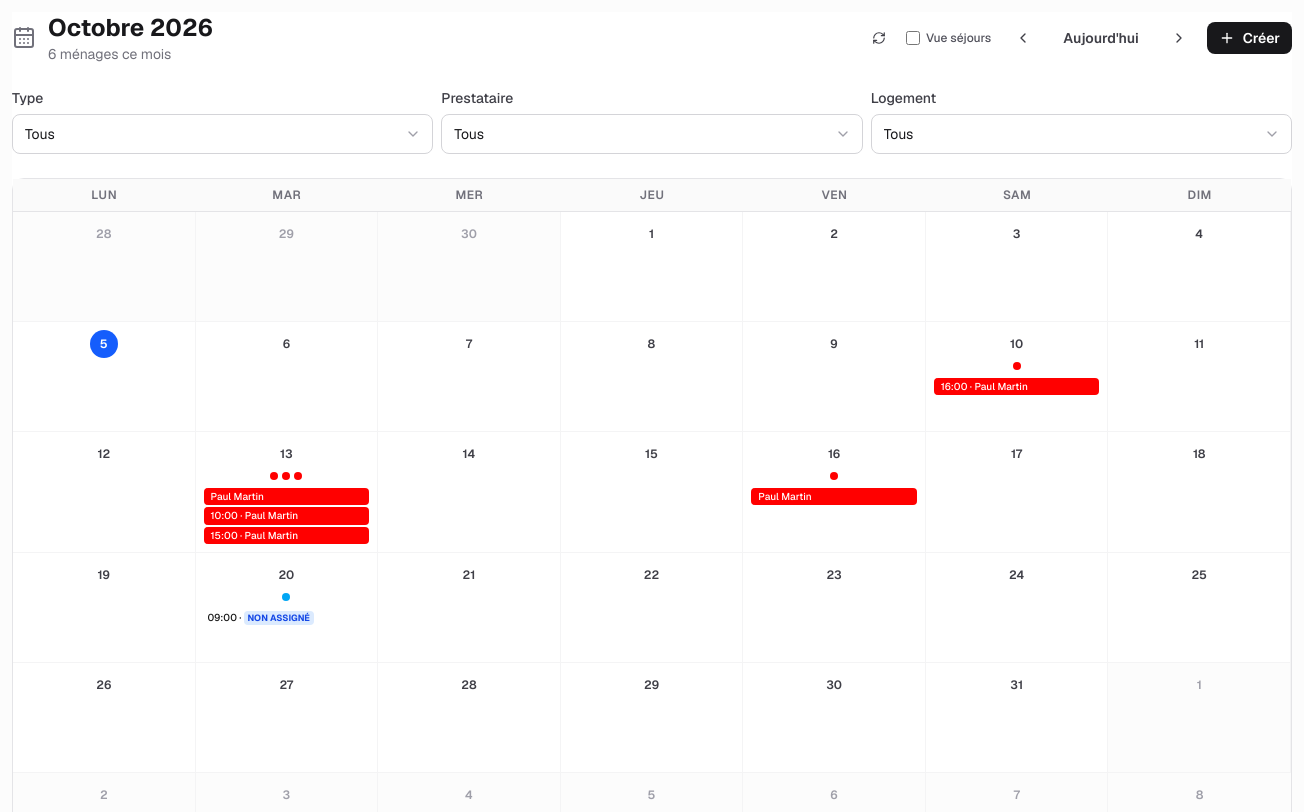
Scenario: Calendrier — vue classique › le filtre prestataire « Non assigné » ne garde que les prestations sans prestataire
The width and height of the screenshot is (1304, 812).
Expected: the text "6 ménages ce mois" is shown, [48,45,171,63]
Select "Non assigné" in the dropdown below "Prestataire" at (652, 134), box [441,114,863,154]
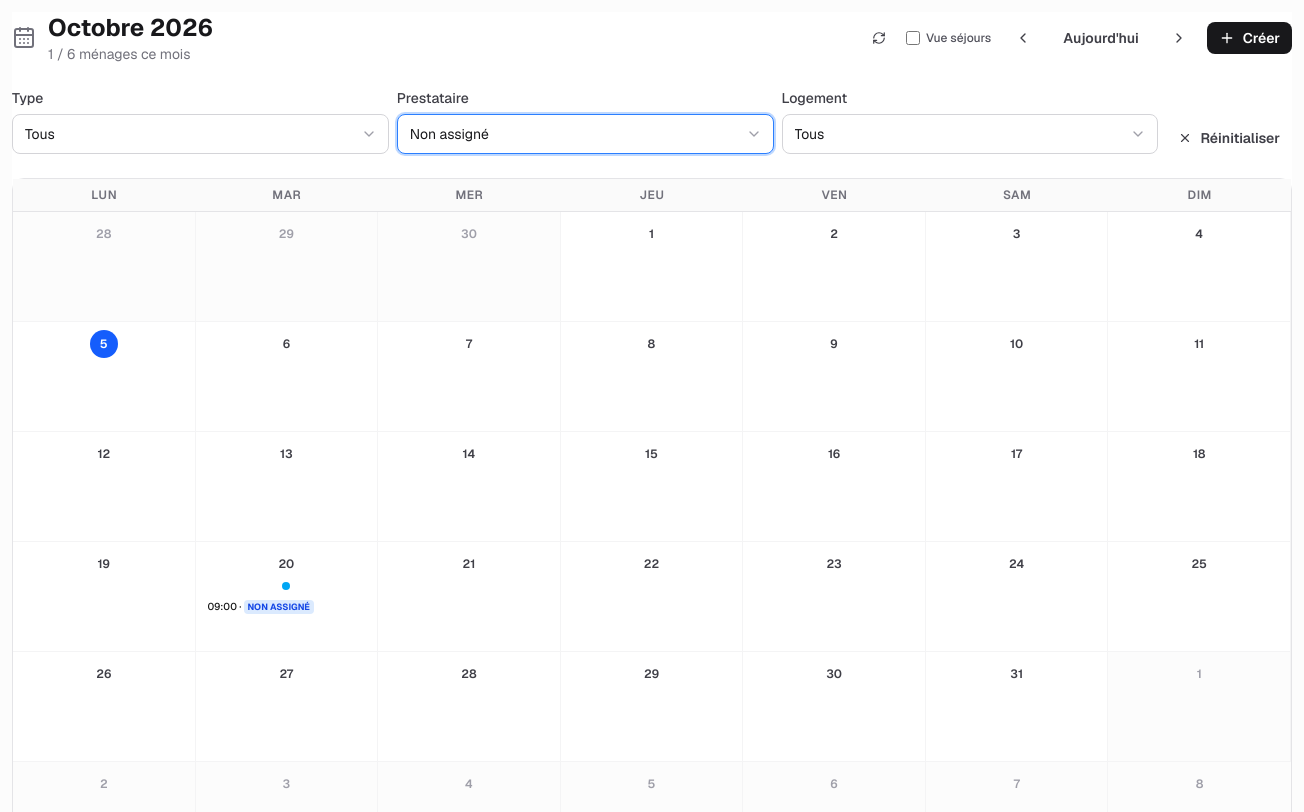
Now the text "1 / 6 ménages ce mois" is shown, box [48,44,213,64]
Now the button "Réinitialiser" is shown, box [1166,122,1292,154]
